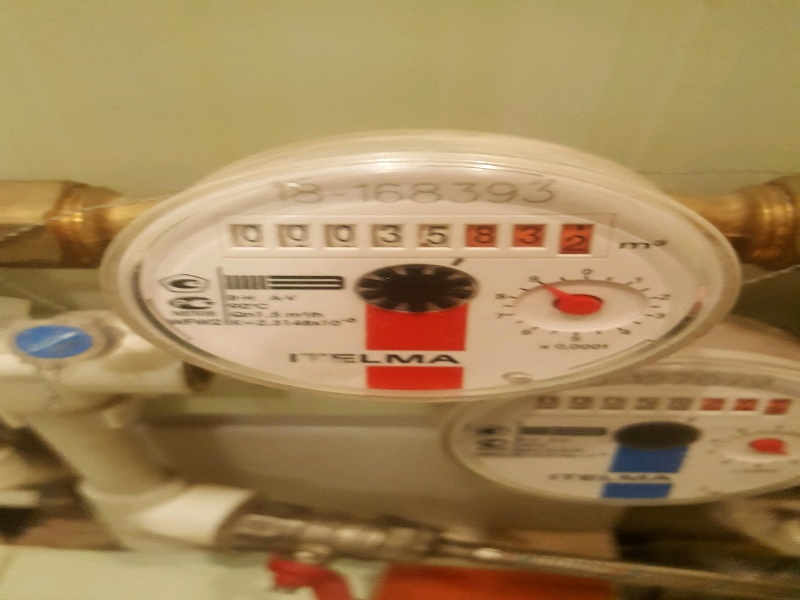meter: (214, 218, 599, 259)
